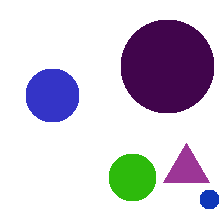circle: (121, 20, 213, 112), (26, 69, 78, 121), (109, 154, 155, 200), (200, 190, 218, 208)
triangle: (163, 143, 209, 182)
